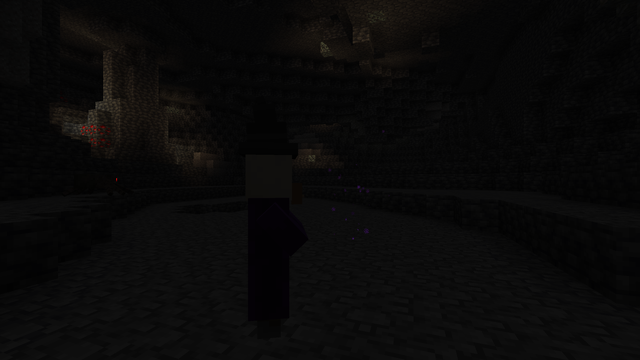araignees: (66, 172, 130, 197)
sorcieres: (230, 145, 305, 347)
